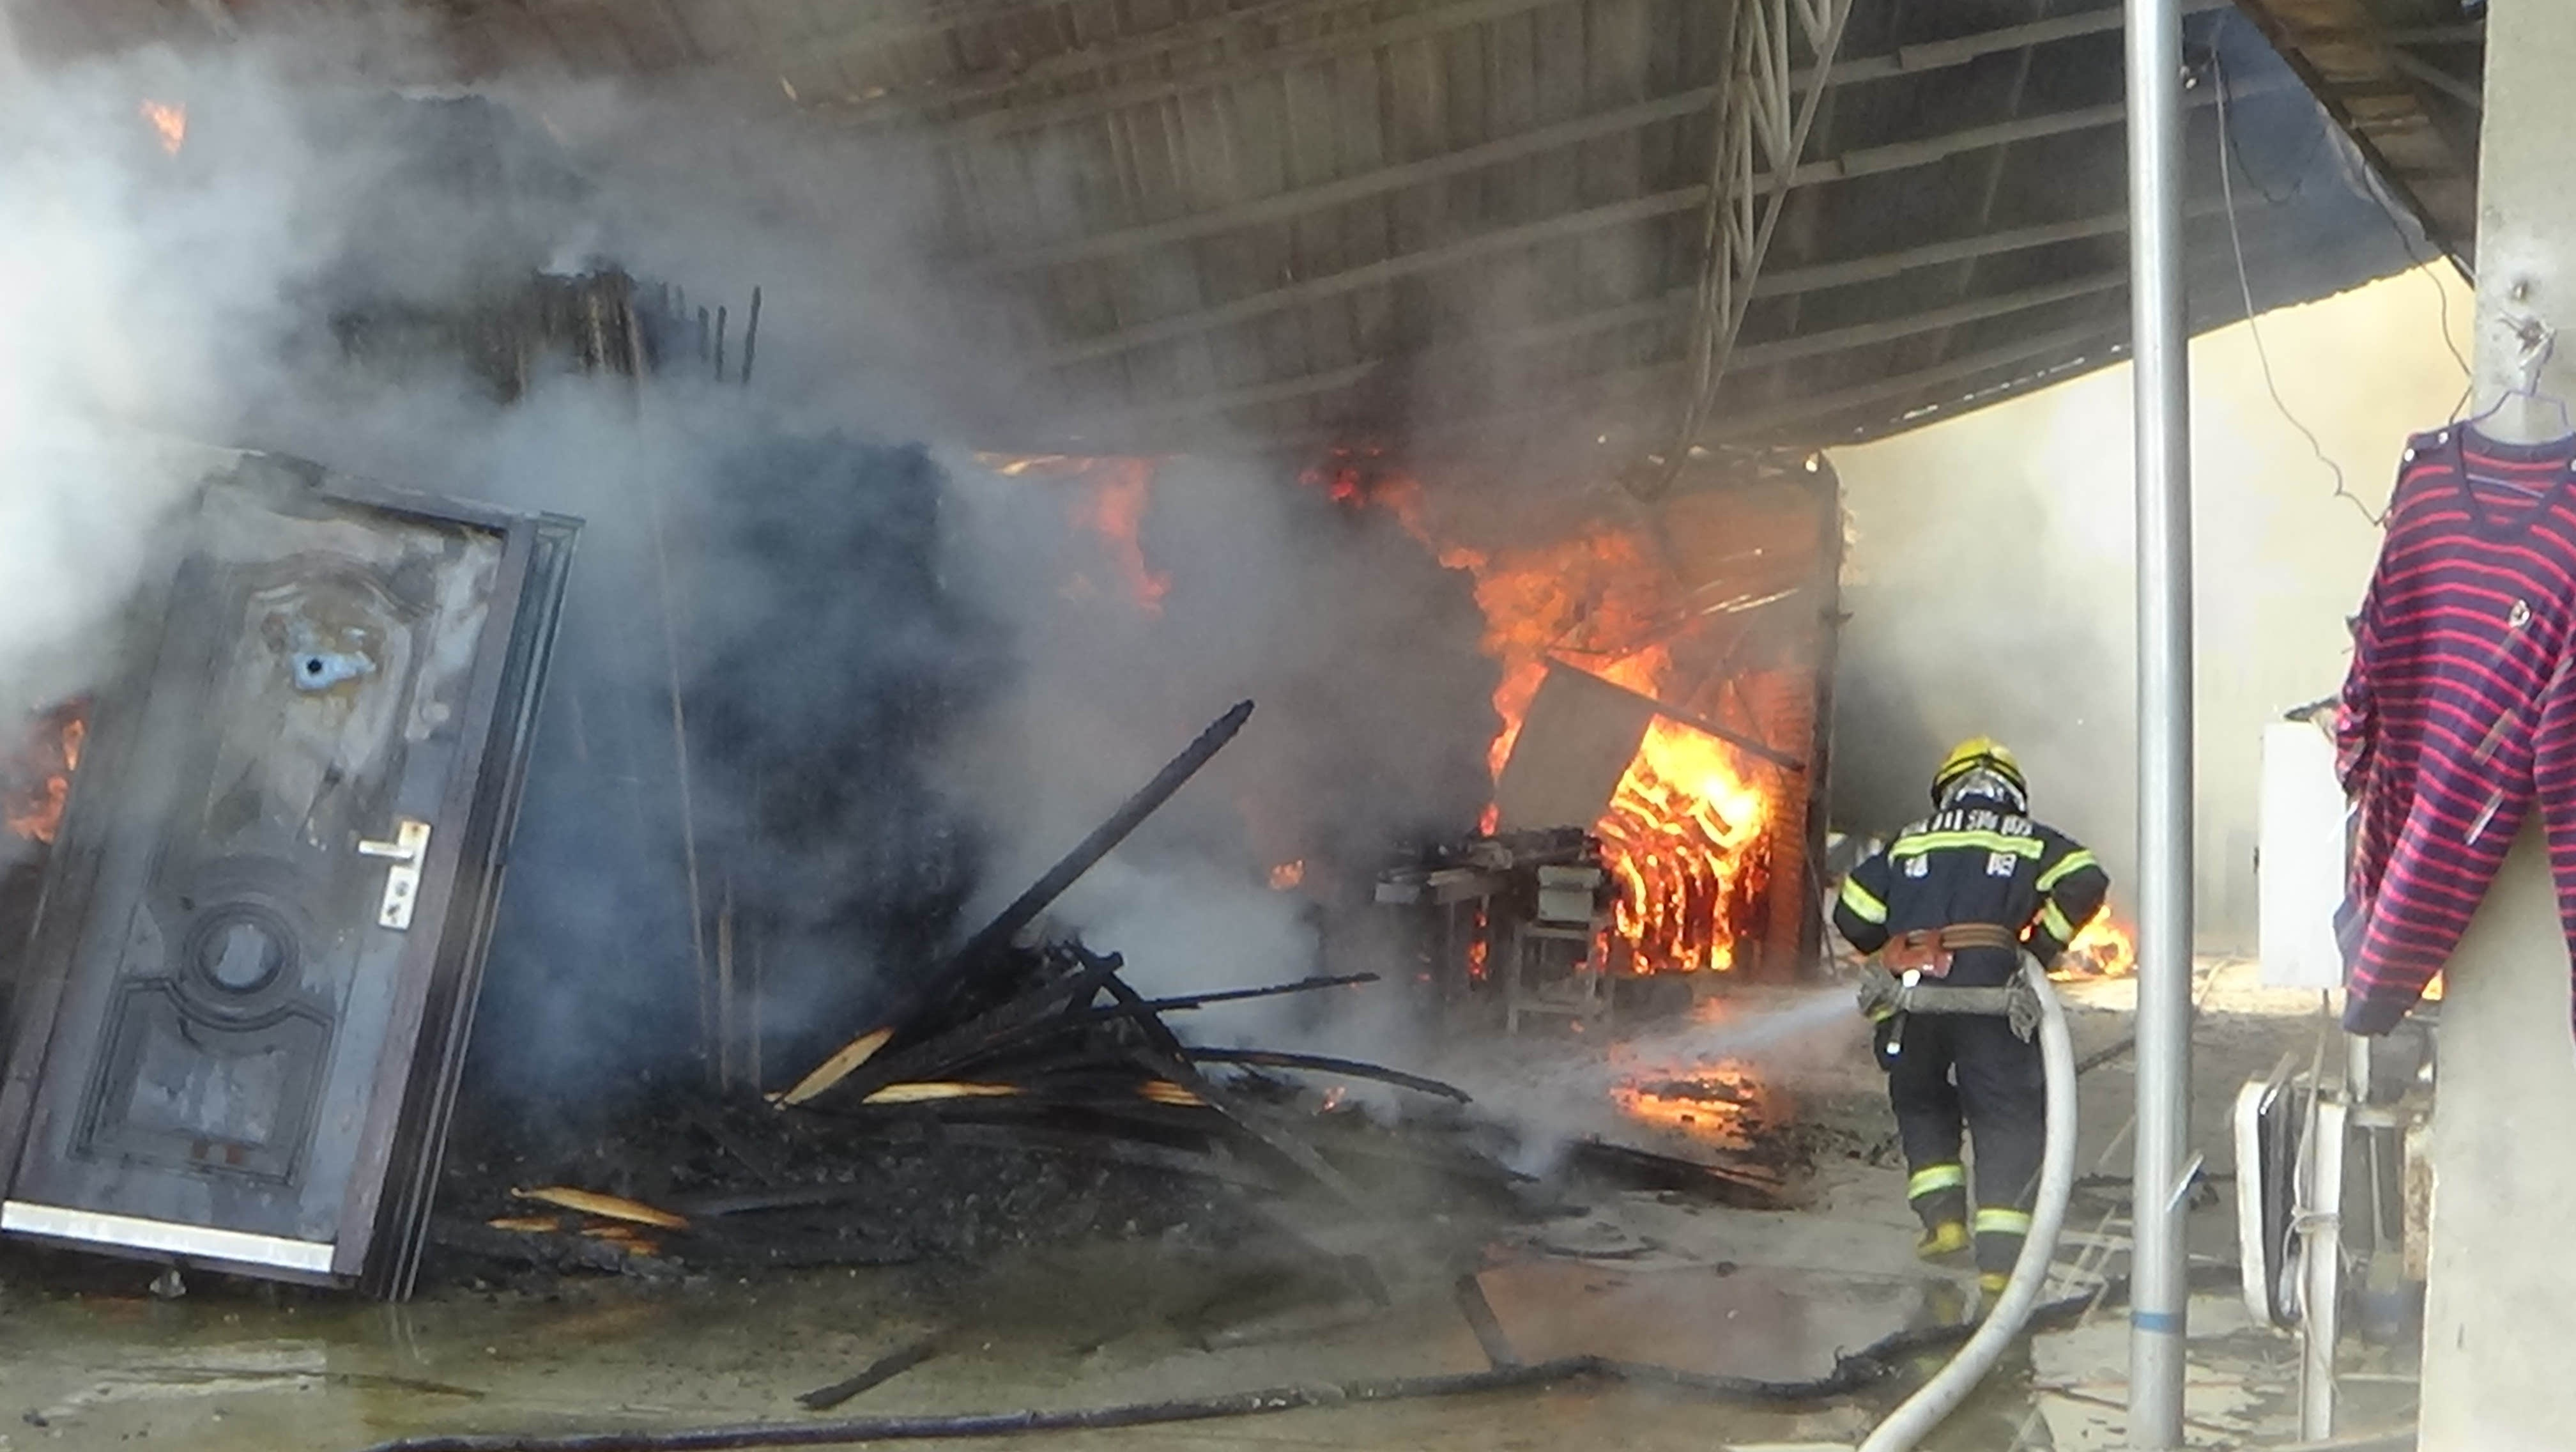fire: (1592, 717, 1771, 965), (959, 443, 1173, 609), (1614, 1052, 1757, 1130), (5, 705, 87, 841), (143, 92, 191, 145)
